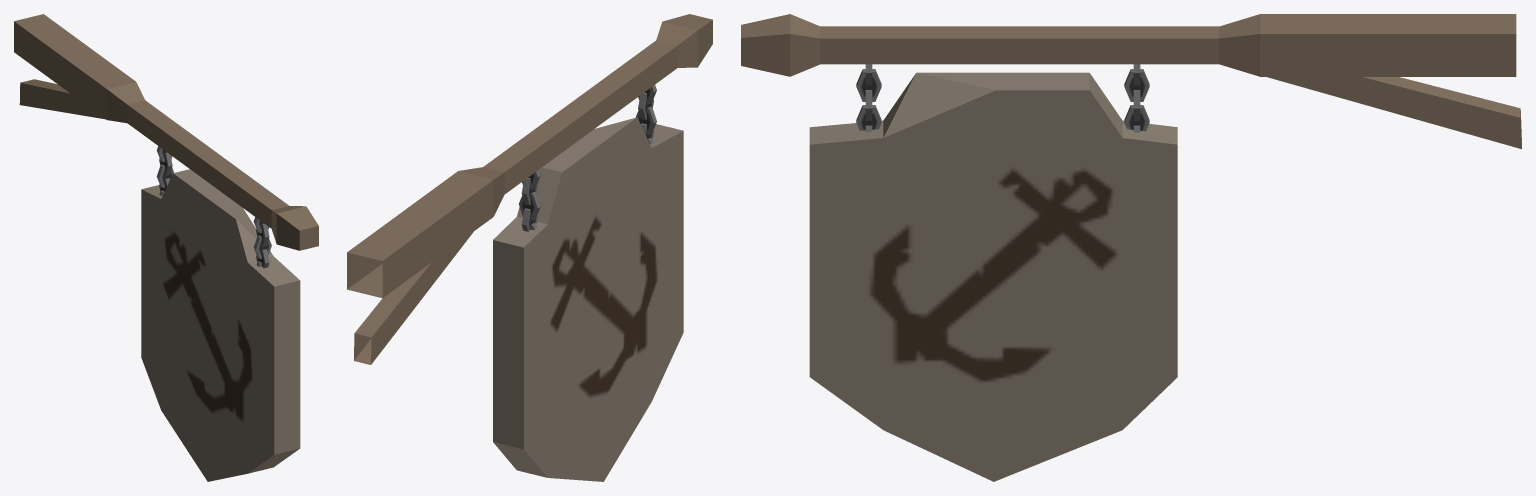
The model's file is SM_Prop_Sign_Attachment_03.glb.
The picture shows the model from 3 angles, left to right: view 1: azimuth 30°, elevation 25°; view 2: azimuth 150°, elevation 25°; view 3: azimuth 270°, elevation 25°; orthographic projection. The views are drawn at different scales.
Parts seen in each view (by area): view 1: SM_Prop_Sign_Attachment_03_part00; view 2: SM_Prop_Sign_Attachment_03_part00; view 3: SM_Prop_Sign_Attachment_03_part00.
Part boxes in pixels (bbox=[...]): SM_Prop_Sign_Attachment_03_part00: bbox=[14, 14, 318, 481]; SM_Prop_Sign_Attachment_03_part00: bbox=[347, 14, 712, 481]; SM_Prop_Sign_Attachment_03_part00: bbox=[741, 14, 1521, 481].
Size of the model in its own units: 0.1343 by 1.36 by 2.15.
1 material, 1 textured.
